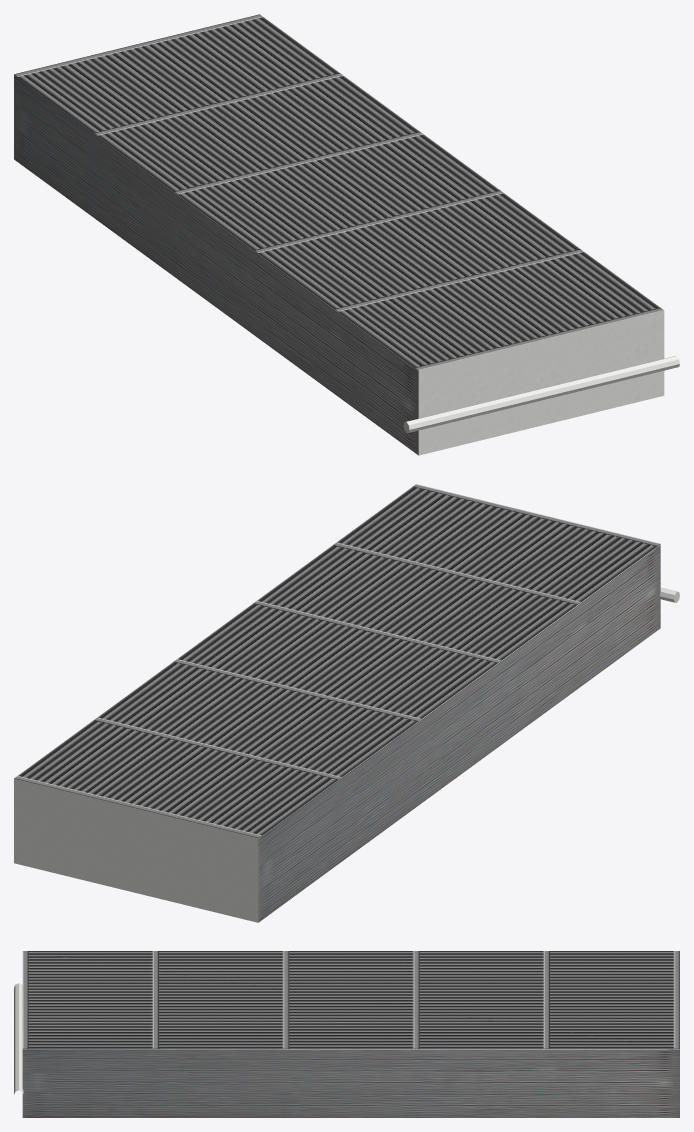
Rendered from srp052-geode.glb.
The picture shows the model from 3 angles, top to bottom: view 1: azimuth 30°, elevation 25°; view 2: azimuth 150°, elevation 25°; view 3: azimuth 270°, elevation 25°; orthographic projection. The views are drawn at different scales.
Parts seen in each view (by area): view 1: Node; view 2: Node; view 3: Node.
Part boxes in pixels (x1,y1,x2,y2): Node: (14, 14, 679, 455); Node: (14, 484, 679, 922); Node: (14, 951, 679, 1117).
Bounding box in the file's own units: 1.63 × 0.4902 × 4.27.
3 materials, 3 textured.
